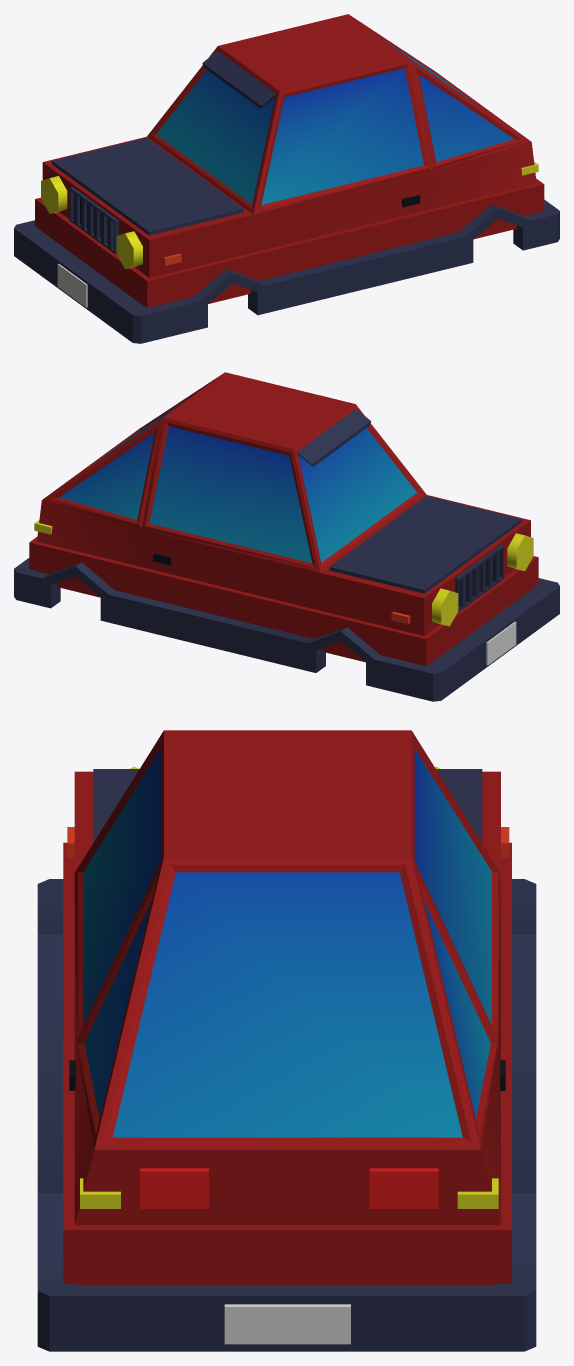
File: Car1.FBX
3 views of the same model, one above another, from view 1: azimuth 30°, elevation 25°; view 2: azimuth 150°, elevation 25°; view 3: azimuth 270°, elevation 25° (orthographic). The views are drawn at different scales.
Visible parts, largest first — view 1: car1; view 2: car1; view 3: car1.
Boxes of the visible parts, x1,y1,x2,y2 form: car1: (14,14,559,343); car1: (14,372,559,701); car1: (37,730,536,1351).
Bounding box in the file's own units: 65.94 × 27.44 × 33.
